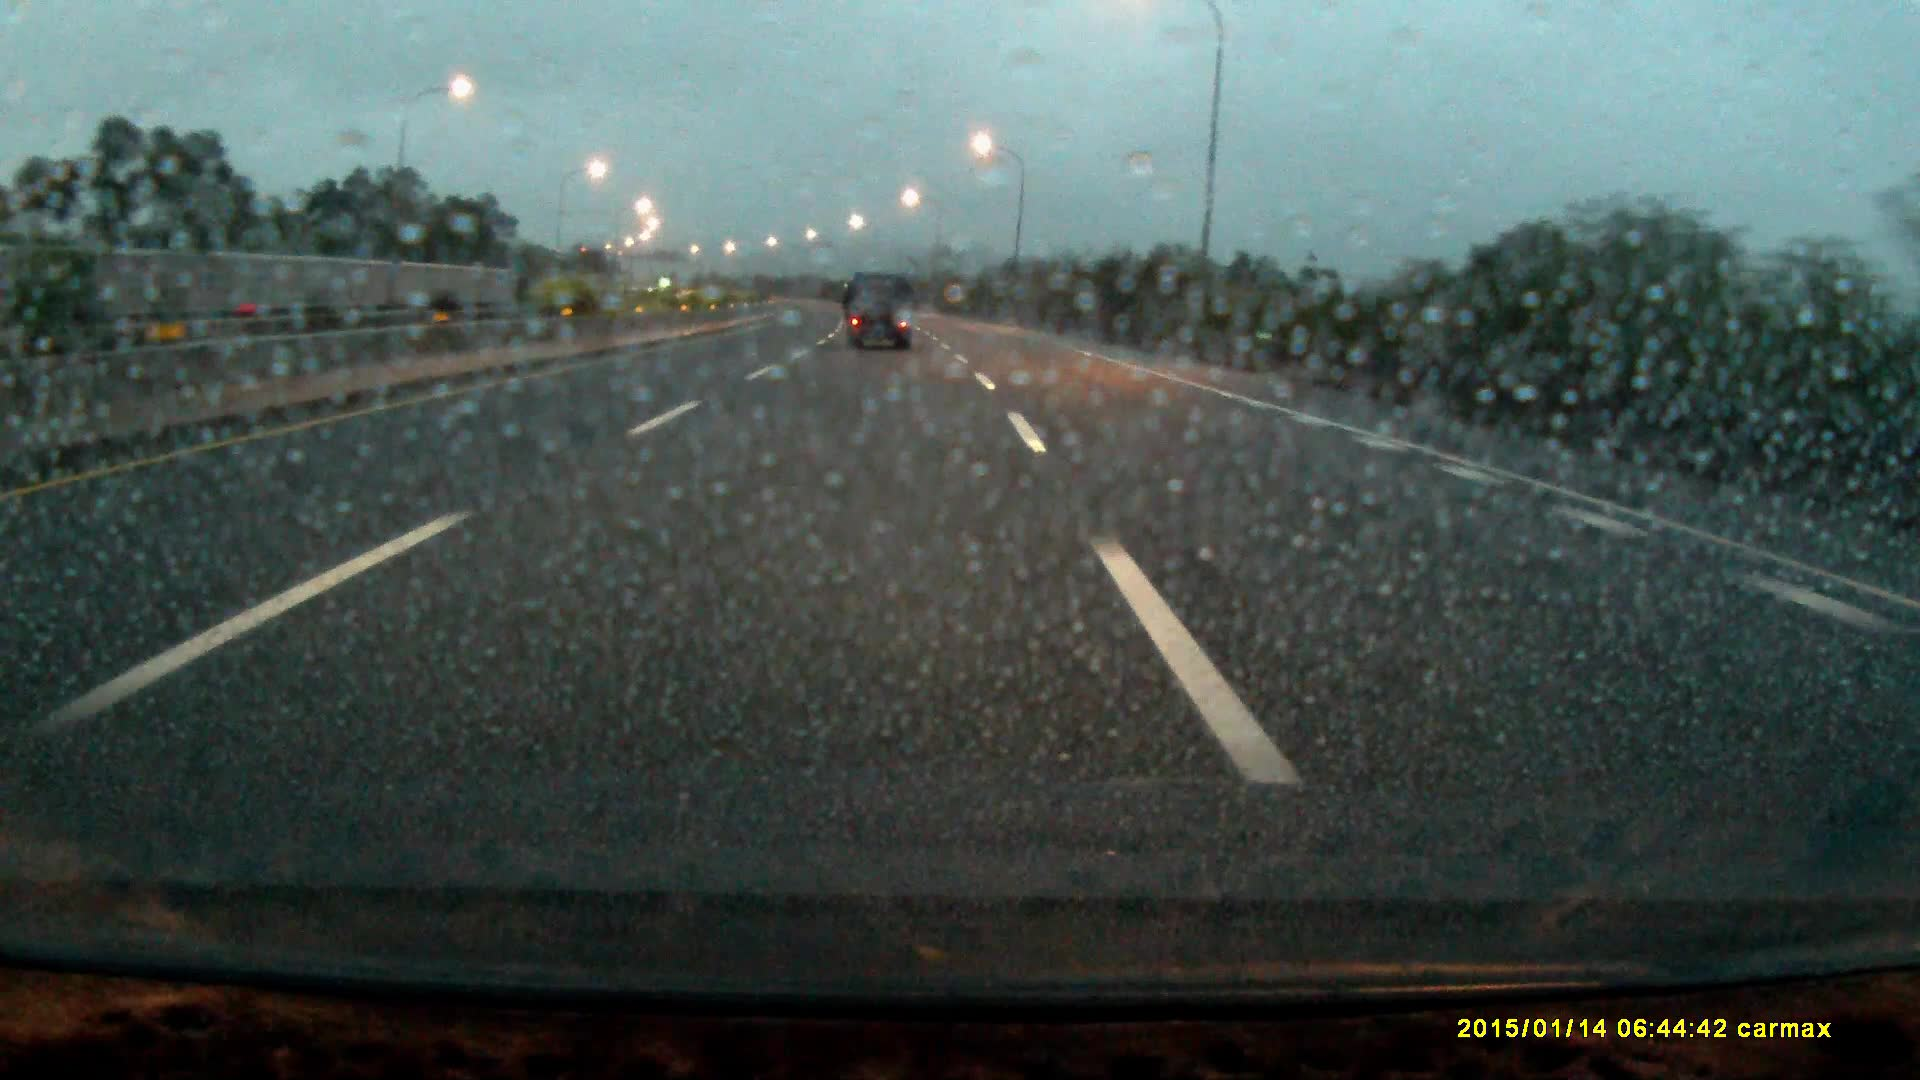vehicle: (848, 272, 913, 355)
